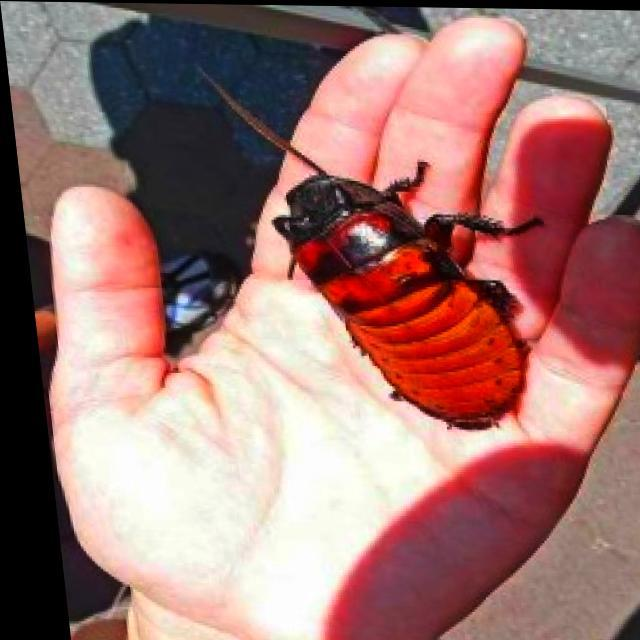cockroach: (258, 141, 554, 474)
